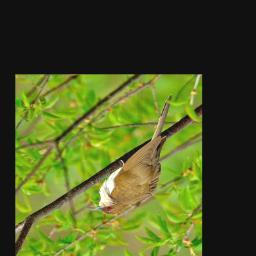Cuckoo: (89, 93, 172, 217)
